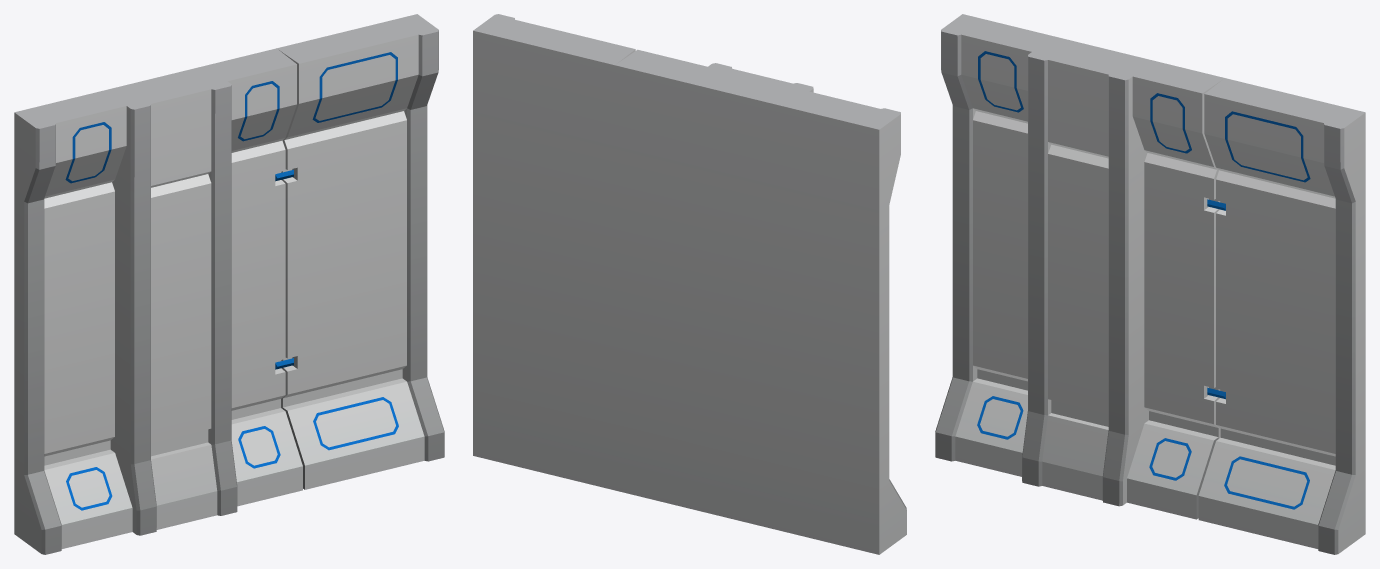
Rendered from Wall_type_A_048.fbx.
3 renders of one model, left to right at view 1: azimuth 30°, elevation 25°; view 2: azimuth 150°, elevation 25°; view 3: azimuth 330°, elevation 25°, orthographic.
Visible parts, largest first — view 1: Wall_type_A_048; view 2: Wall_type_A_048; view 3: Wall_type_A_048.
Boxes of the visible parts, box(x1,y1,x2,y2) form: Wall_type_A_048: box(14, 14, 444, 554); Wall_type_A_048: box(473, 14, 906, 554); Wall_type_A_048: box(935, 14, 1365, 554).
Bounding box in the file's own units: 400 × 57 × 400.
